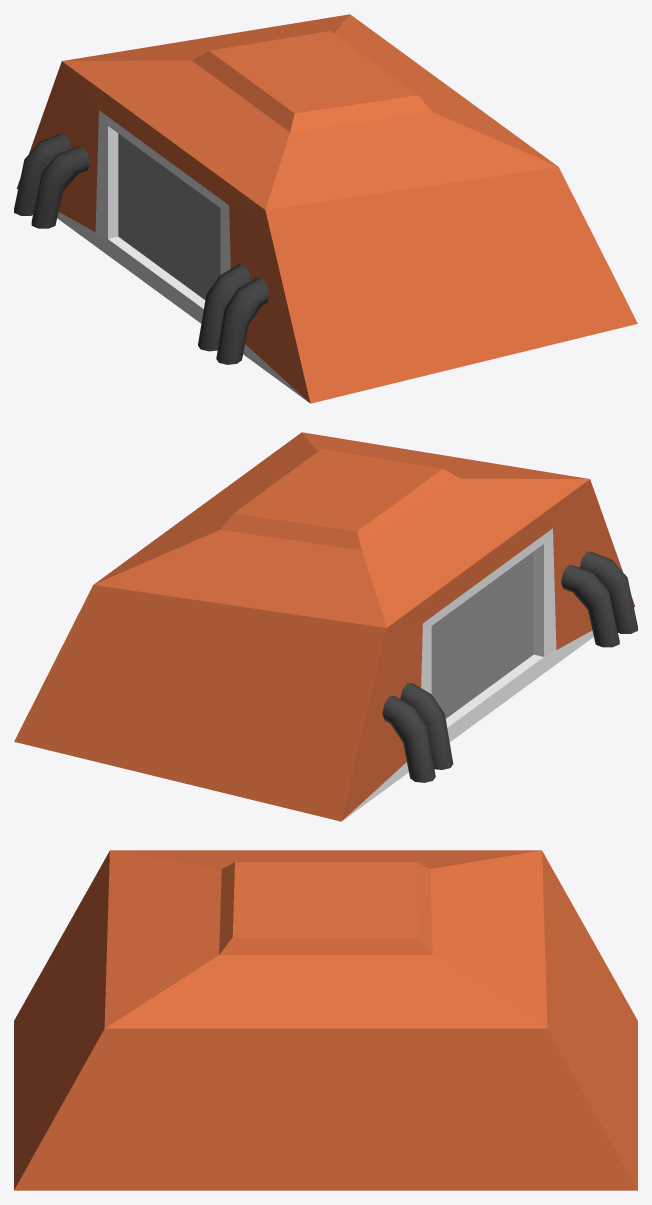
The model's file is Machine_6.fbx.
3 renders of one model, top to bottom at view 1: azimuth 30°, elevation 25°; view 2: azimuth 150°, elevation 25°; view 3: azimuth 270°, elevation 25°, orthographic. The views are drawn at different scales.
Parts seen in each view (by area): view 1: Machine_6; view 2: Machine_6; view 3: Machine_6.
Boxes of the visible parts, x1,y1,x2,y2 form: Machine_6: (14,14,637,403); Machine_6: (14,432,637,821); Machine_6: (14,850,637,1190).
Bounding box in the file's own units: 781 × 383 × 1061.
